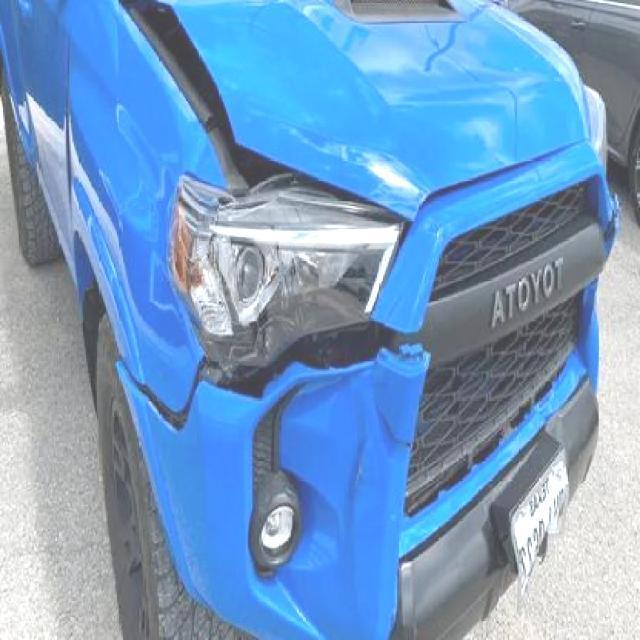minor: (123, 295, 197, 431)
moderate: (251, 351, 426, 620)
